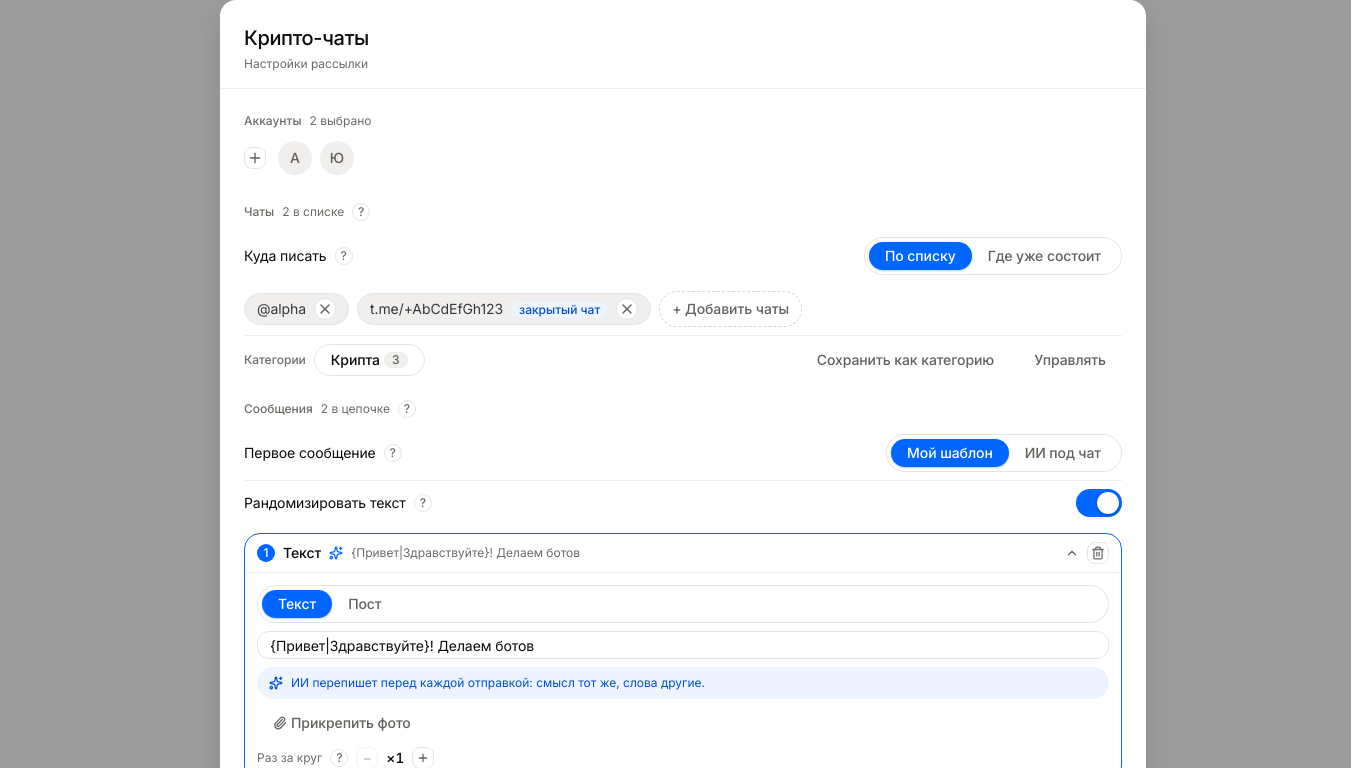
Test: a category adds its chats to the list once, without duplicates
(page scrolled)
Check: the text "3" is shown, box [384,352,408,368]
What coordinates should you click on to do the following:
click the button with aria-label "Добавить в рассылку: Крипта"
I would click on:
 (369, 360)
Its box is [314,344,424,376].
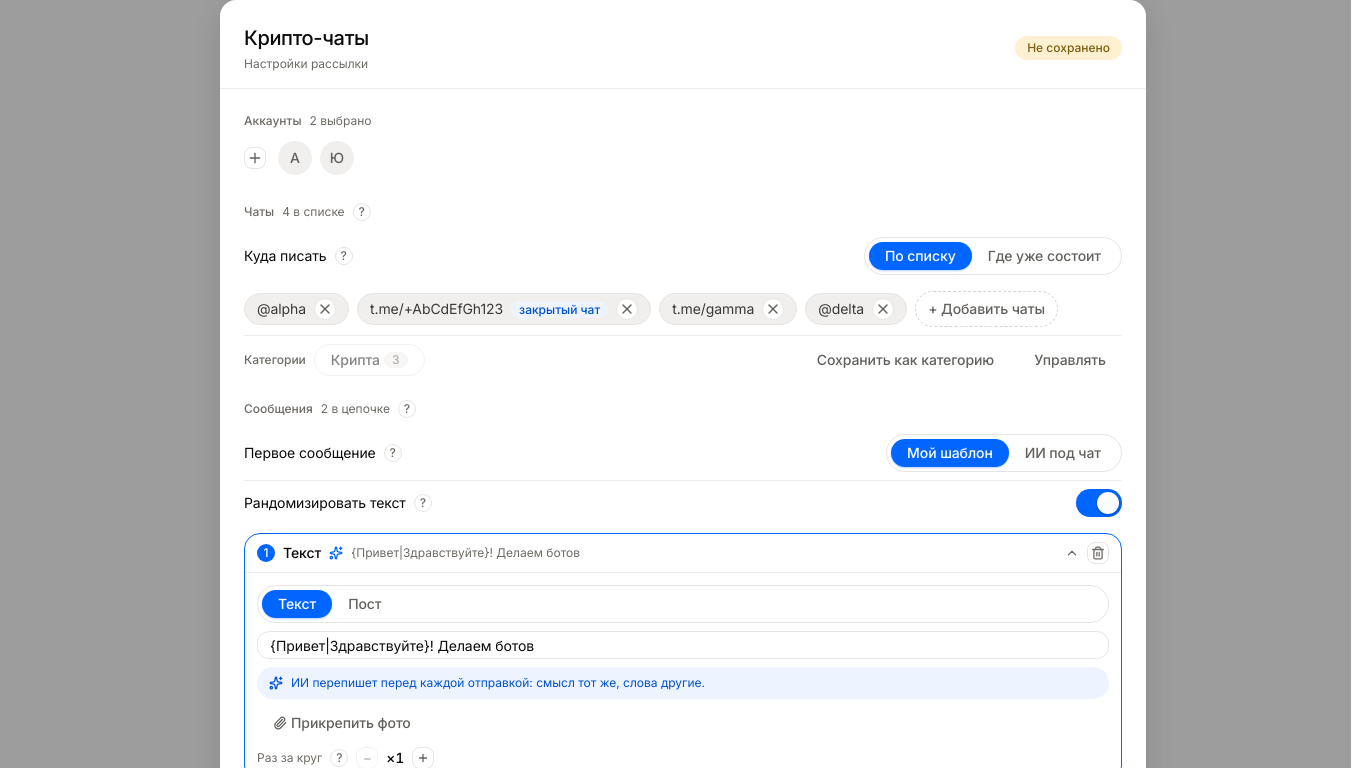
Check: the text "t.me/gamma" is shown, box [659,293,797,325]
Check: the text "@delta" is shown, box [805,293,907,325]
Check: the text "@alpha" is shown once, box [244,293,349,325]
